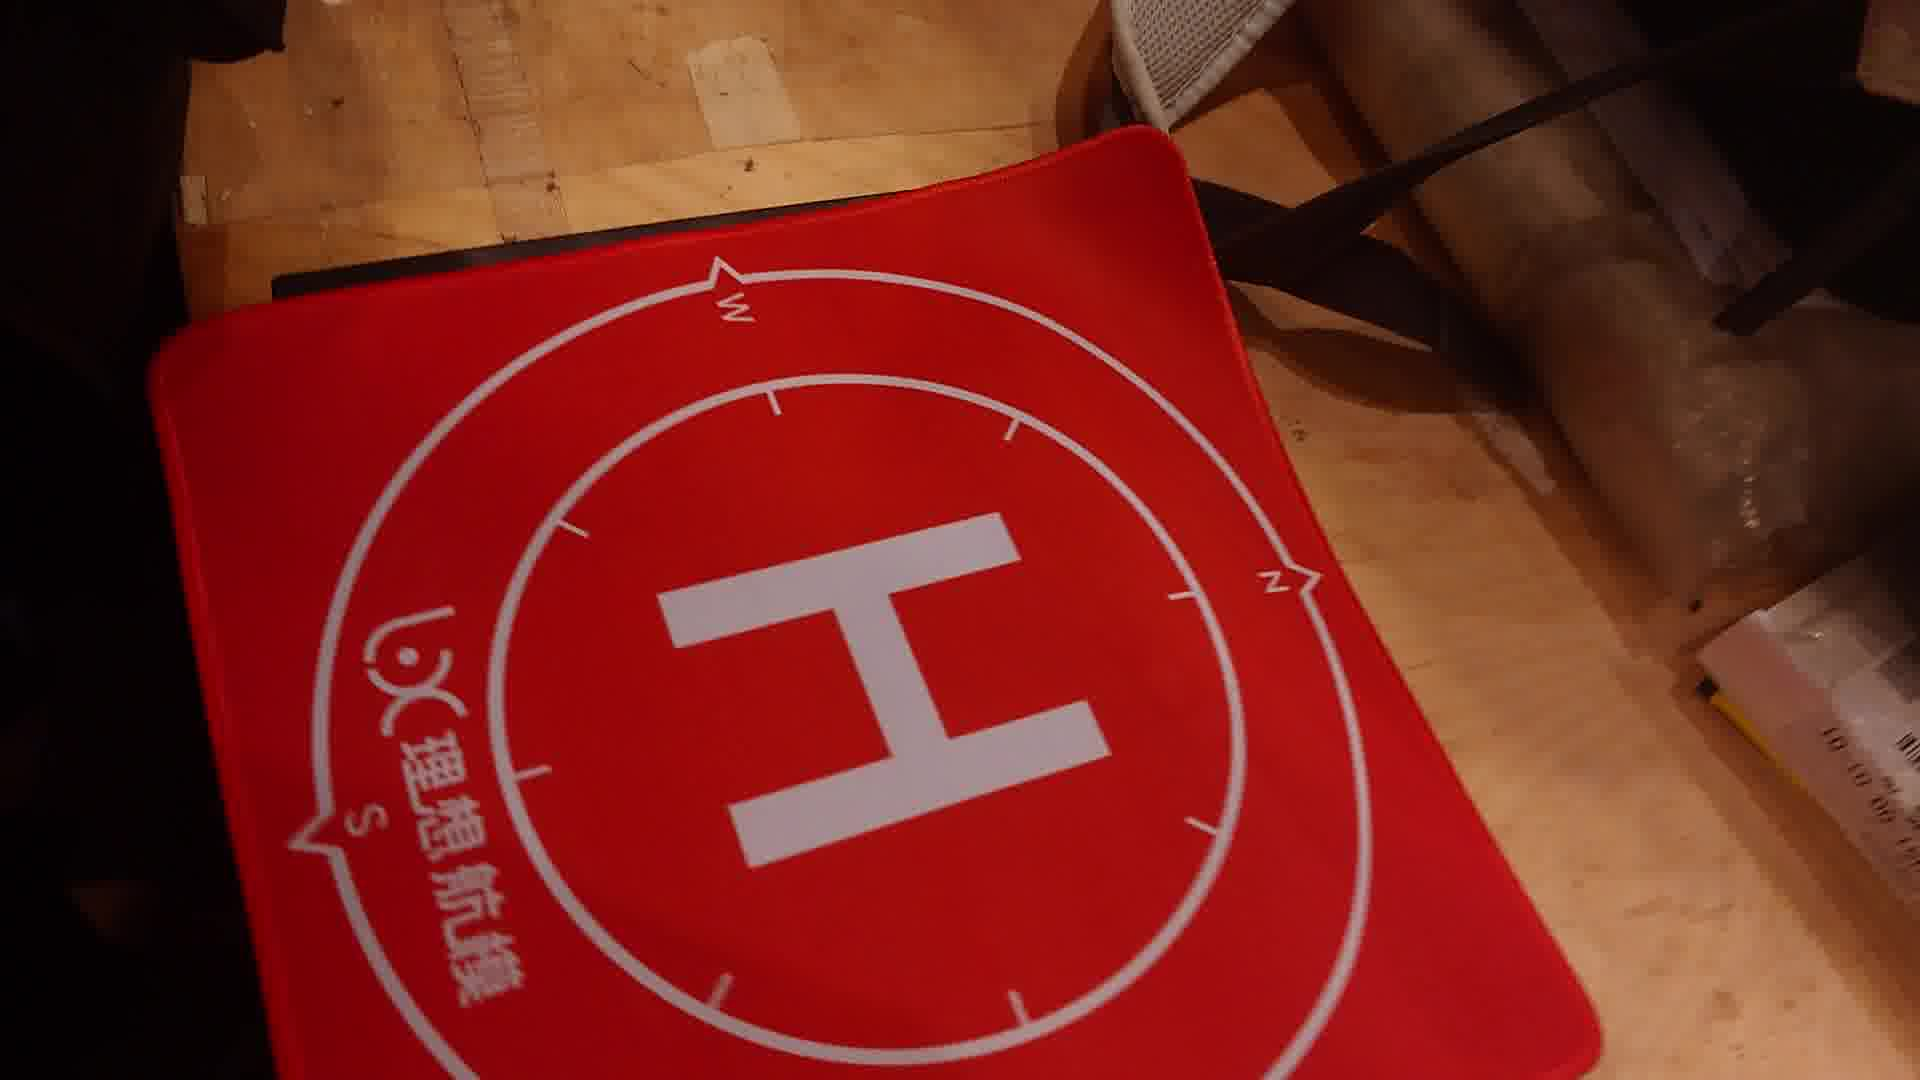H: (655, 513, 1109, 873)
